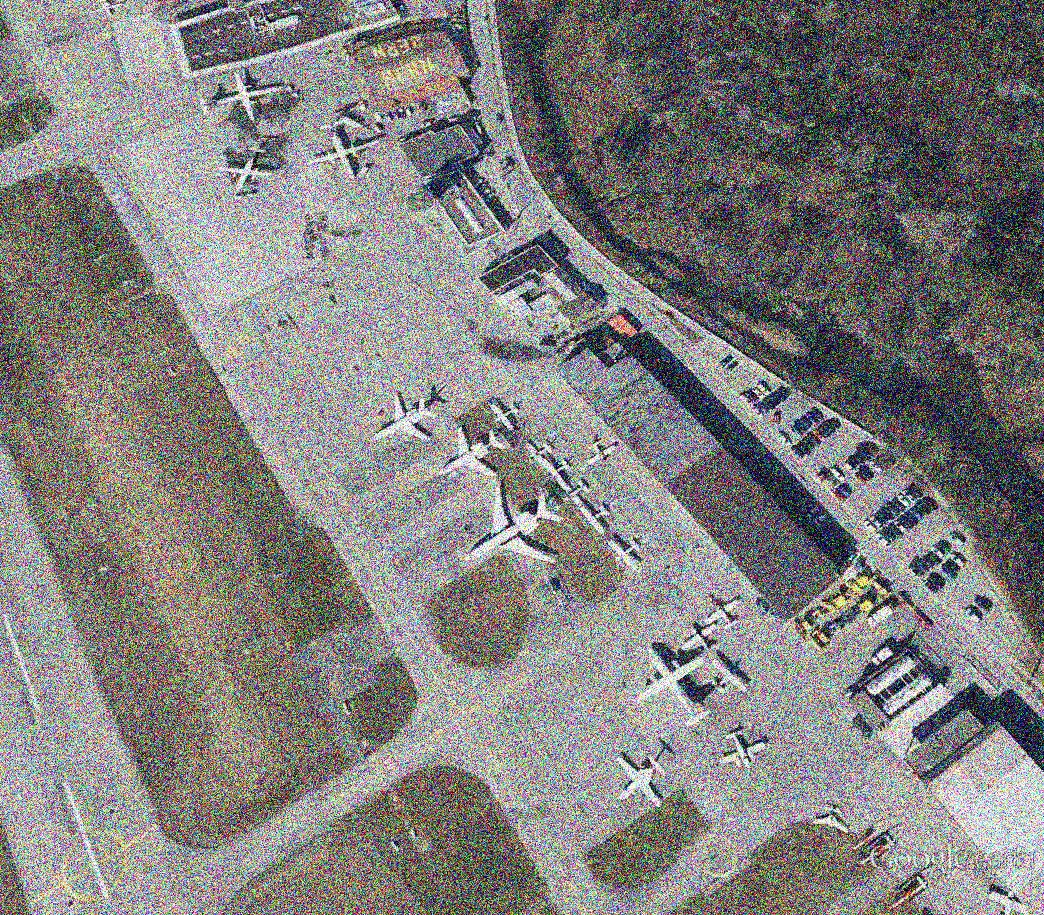aircraft: (460, 476, 567, 568), (634, 644, 715, 730), (301, 118, 384, 185), (197, 69, 287, 125), (434, 419, 514, 480), (370, 388, 441, 450), (613, 755, 668, 811), (217, 147, 279, 195), (716, 727, 770, 772), (708, 655, 752, 699), (604, 536, 642, 576), (680, 622, 722, 658), (811, 805, 854, 840), (703, 595, 745, 630), (985, 887, 1036, 915), (577, 504, 614, 540), (486, 400, 521, 433), (523, 438, 558, 470), (585, 439, 619, 470), (558, 478, 593, 508), (541, 458, 573, 488)
